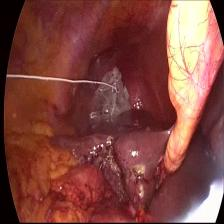Specimen Bag: (79, 60, 145, 138)
